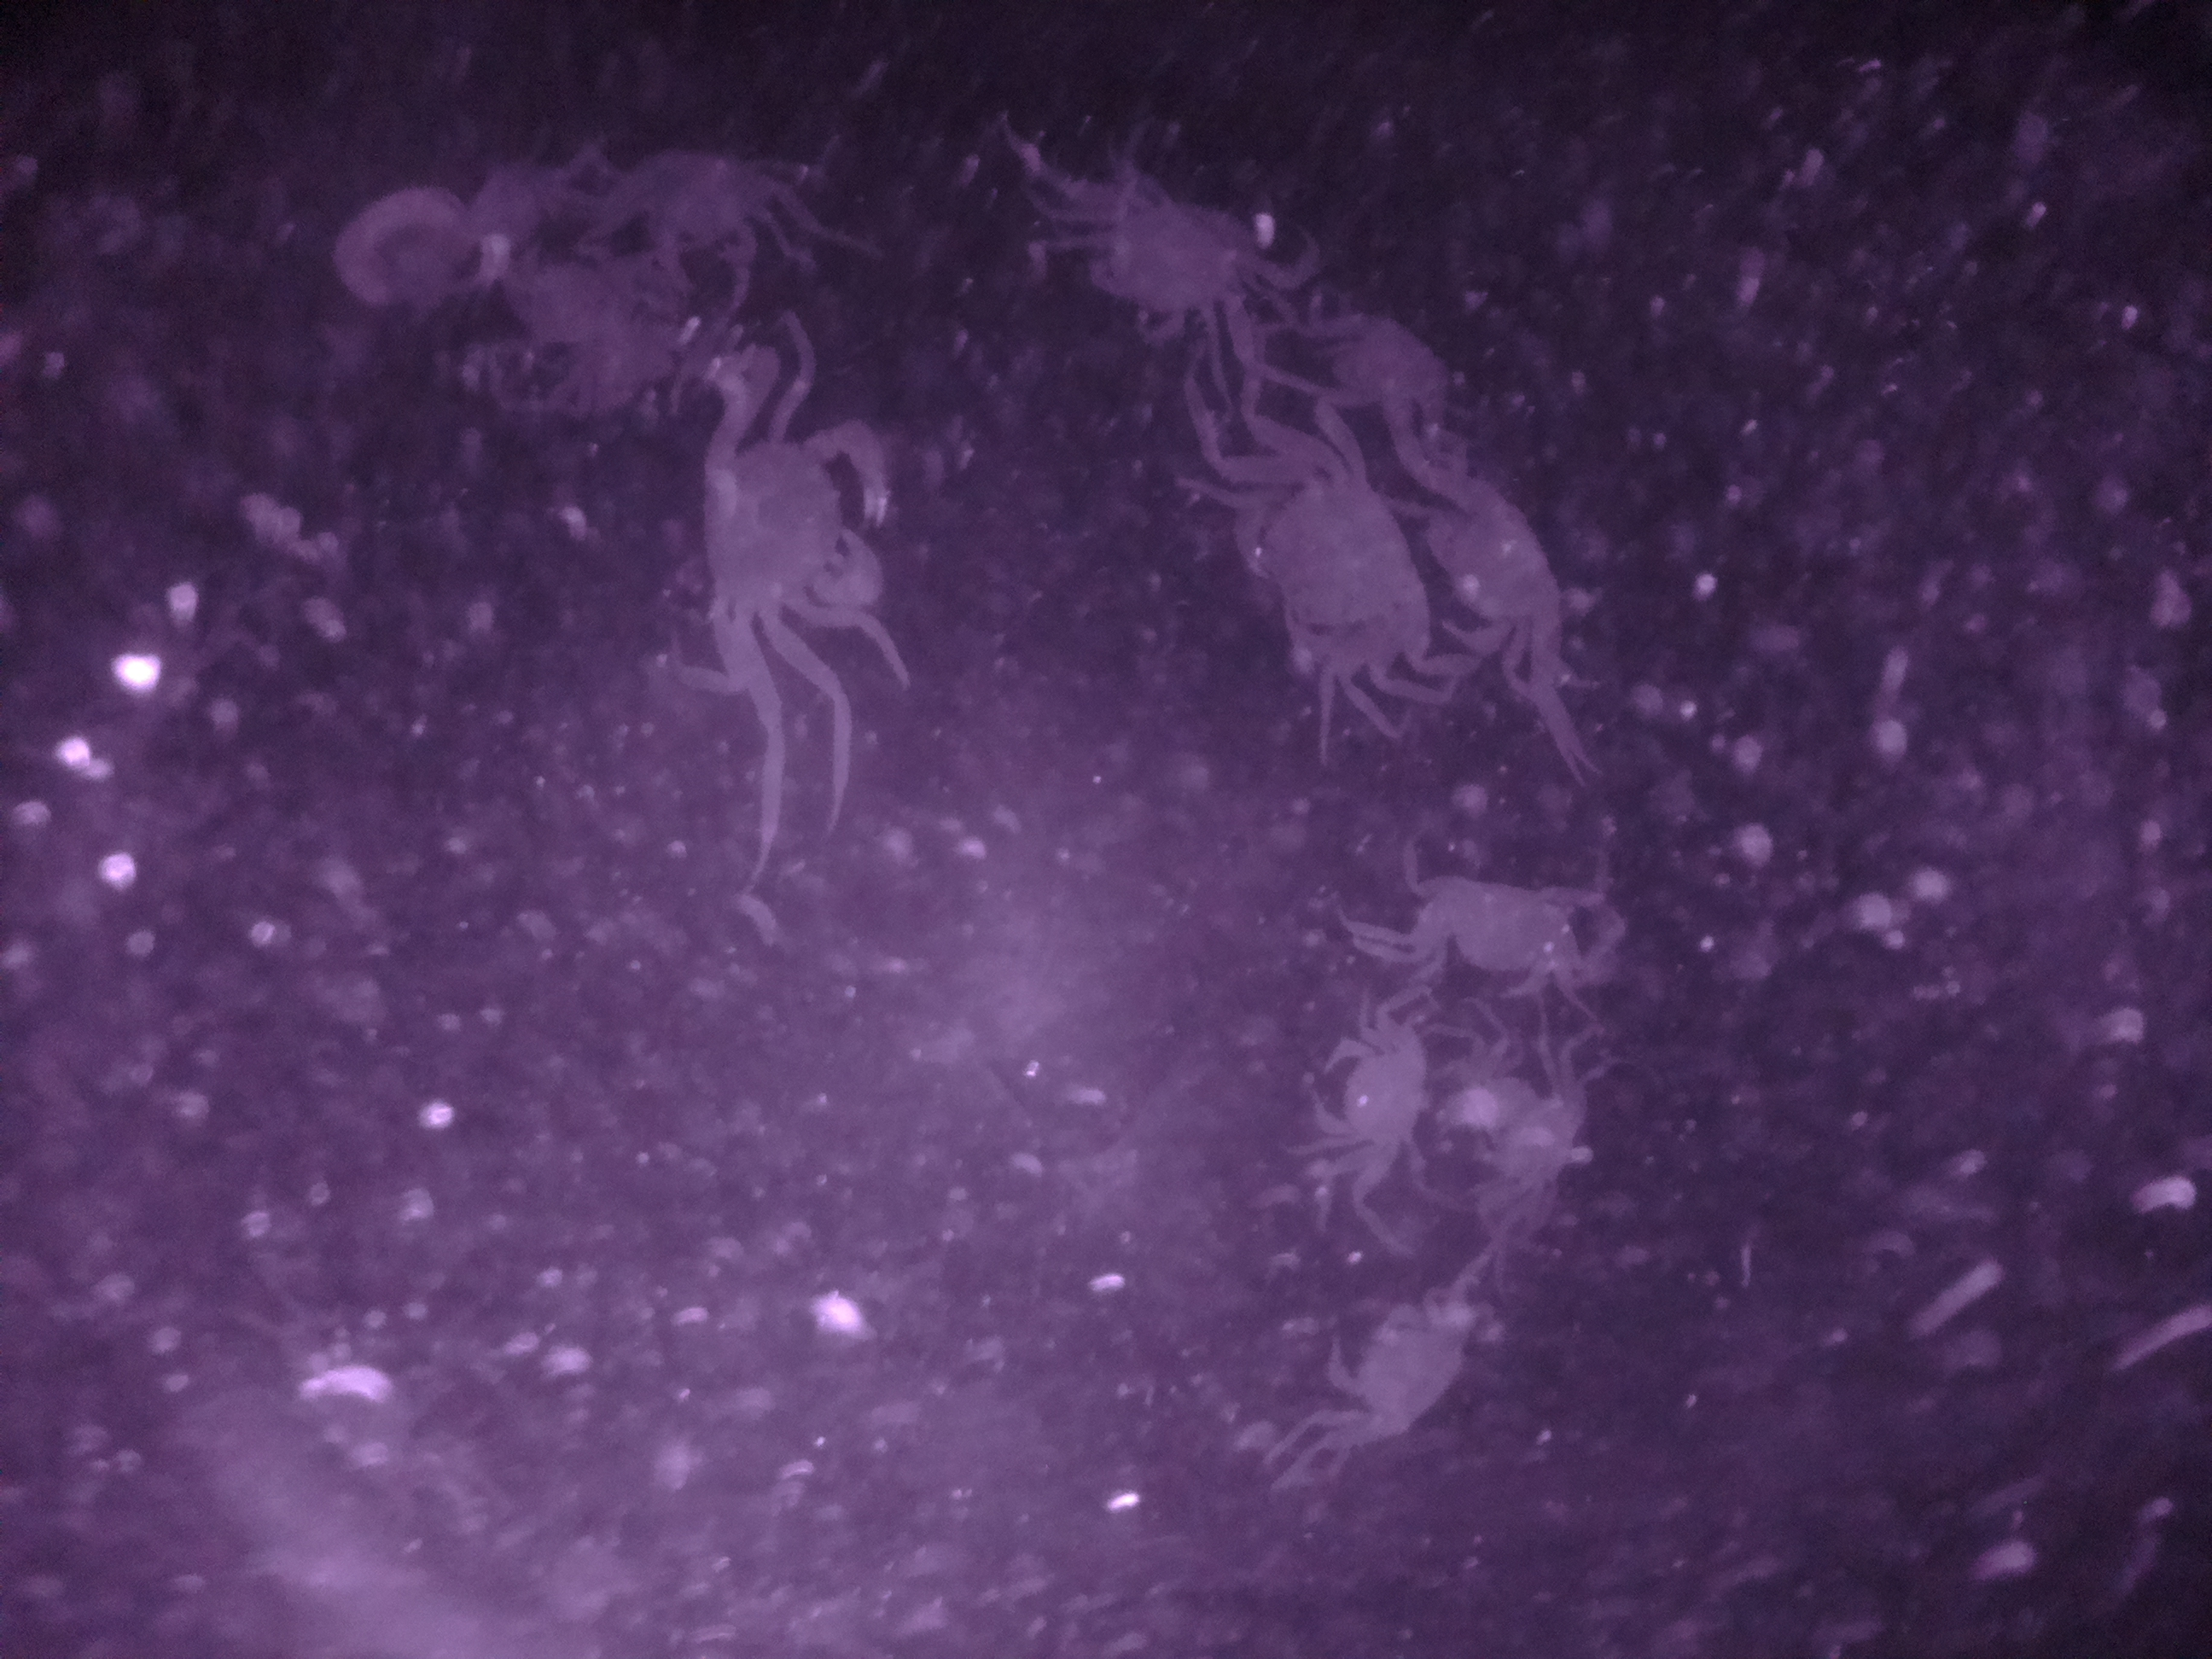Crab: (676, 376, 895, 671), (1226, 415, 1439, 708), (1313, 1262, 1494, 1453), (1395, 866, 1592, 985), (1299, 1023, 1446, 1175)
